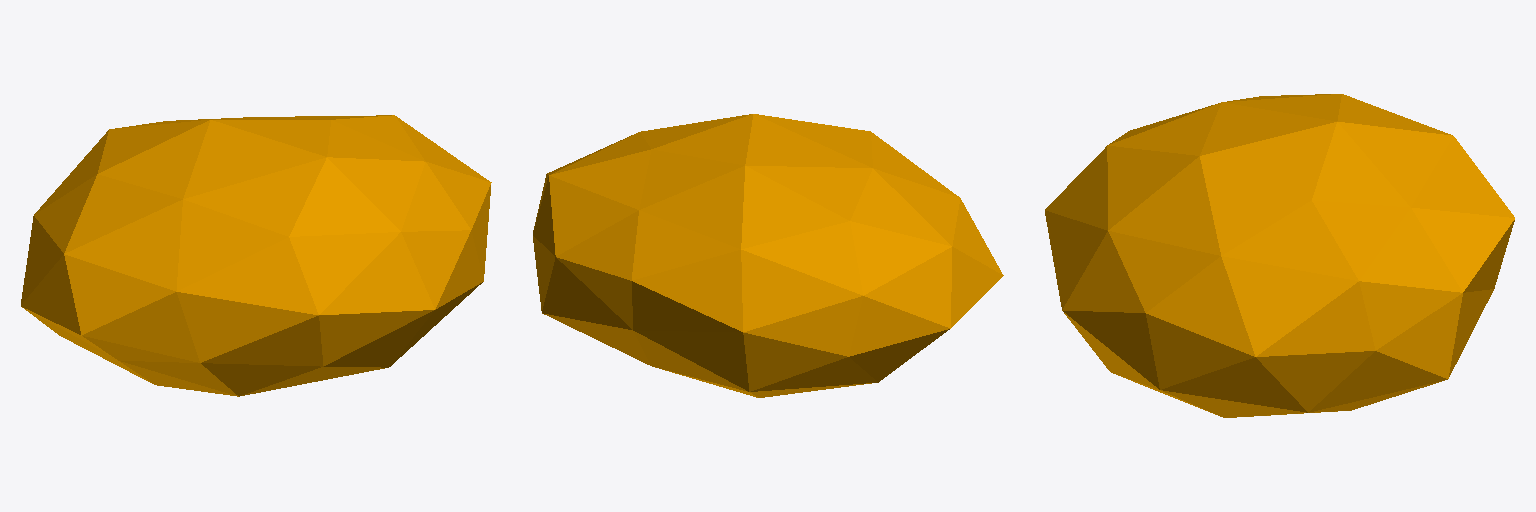
URDF robot description (train2796):
<?xml version="1.0"?>
<robot name="train2796">
  <link name="link">
    <contact>
      <lateral_friction value="0.6"/>
    </contact>
    <inertial>
      <mass value = "0.5854213558198061"/>
      <inertia ixx="0.00031001193695430614" ixy="3.8695509055230635e-20" ixz="5.778529352247775e-20" iyy="0.00039820123299812567" iyz="-1.2382562897673803e-20" izz="0.0005515458363947776" />
    </inertial>
    <visual name="visual">
      <geometry>
        <mesh filename="train2796.obj"/>
      </geometry>
    </visual>
    <collision name="collision">
      <geometry>
        <mesh filename="train2796.obj"/>
      </geometry>
    </collision>
  </link>
</robot>

--- What the picture shows (computed from the rendered views, not written in the file) ---
The picture shows the robot from 3 angles, left to right: view 1: azimuth 30°, elevation 25°; view 2: azimuth 150°, elevation 25°; view 3: azimuth 270°, elevation 25°; orthographic projection.
Robot: train2796 — 1 links, 0 joints (none); root link link; default pose: all joints at 0.
Links seen in each view (by area): view 1: link; view 2: link; view 3: link.
Link boxes in pixels (x1=…): link: x1=21, y1=115, x2=491, y2=396; link: x1=533, y1=114, x2=1003, y2=397; link: x1=1045, y1=94, x2=1514, y2=417.
Bounding box of the posed robot: 0.1116 × 0.0928 × 0.0534 m (x, y, z).
1 mesh visuals loaded from 1 distinct referenced files (1 OBJ).
